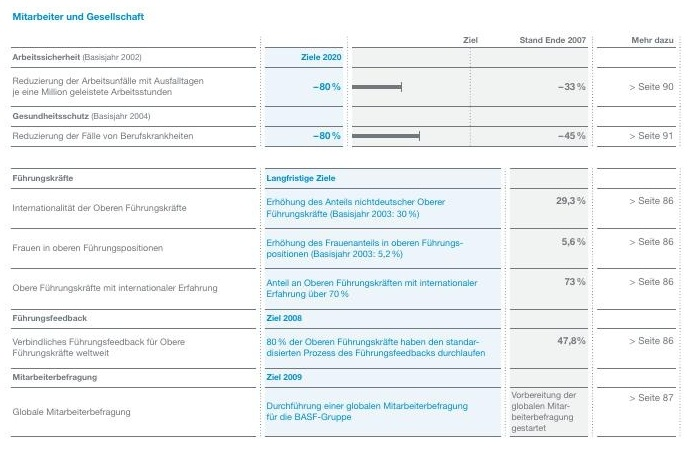table: (0, 0, 692, 449)
